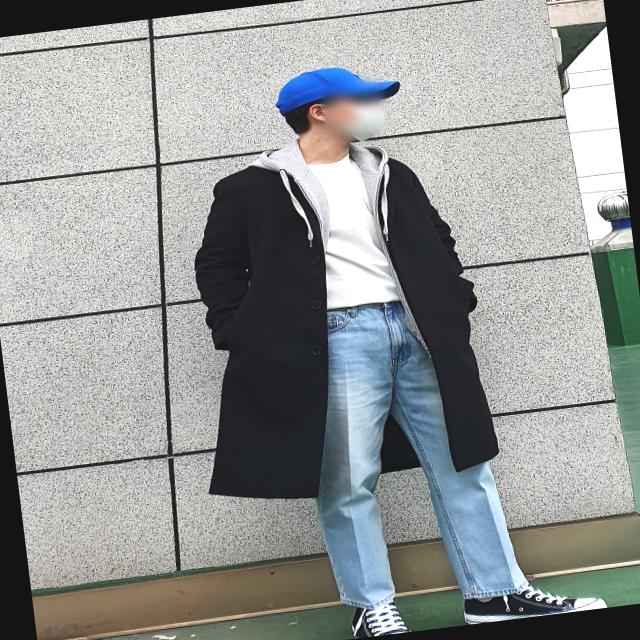coat: (170, 124, 506, 512)
denimpants: (292, 286, 532, 618)
